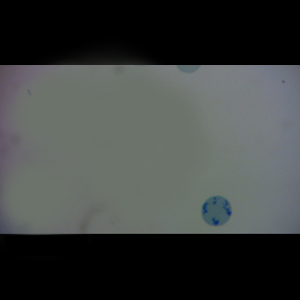aggregate reticulocyte: (201, 195, 233, 227)
